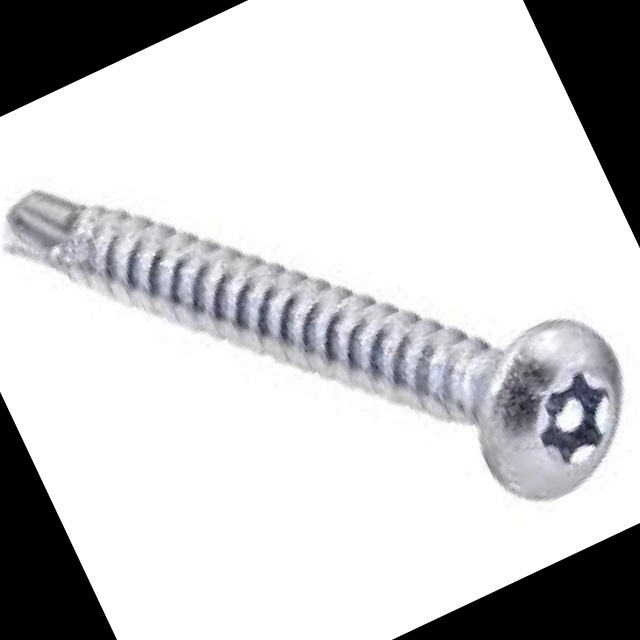torx: (441, 297, 640, 520)
